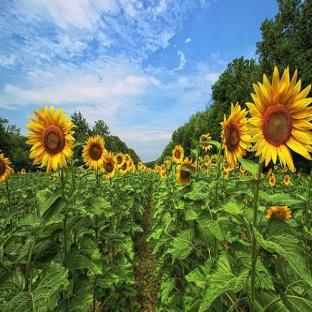sunflower: (240, 67, 312, 312), (24, 106, 75, 268)
